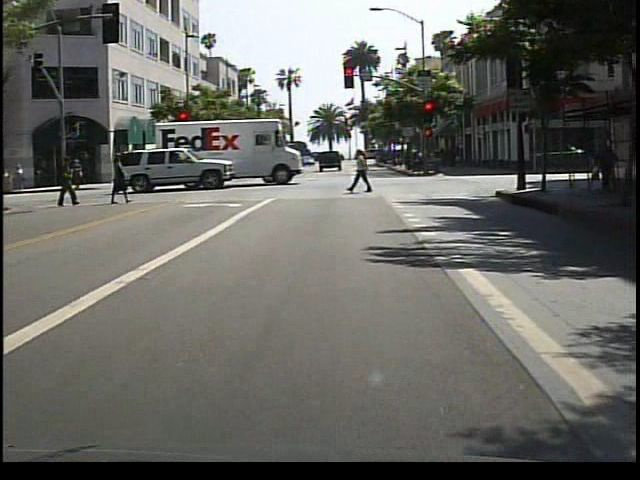person: (590, 136, 620, 198), (106, 149, 132, 208), (351, 147, 377, 196), (57, 157, 81, 208)
